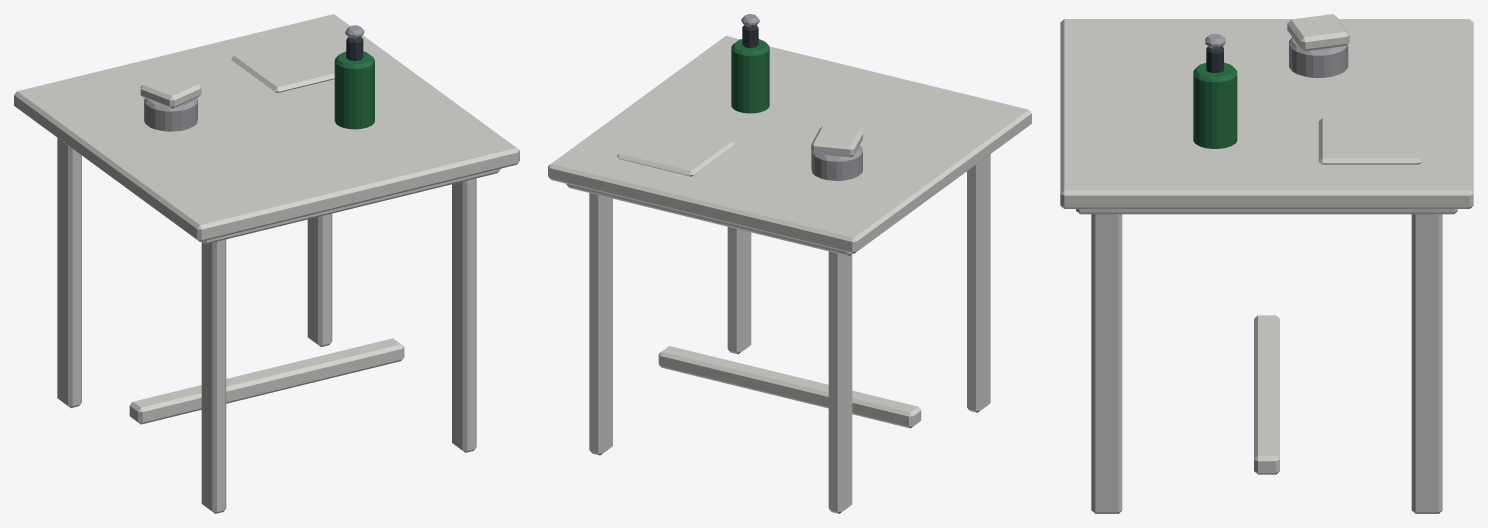
Rendered from PRP_Table_ML_v001.glb.
3 views of the same model, side by side, from view 1: azimuth 30°, elevation 25°; view 2: azimuth 150°, elevation 25°; view 3: azimuth 270°, elevation 25° (orthographic). The views are drawn at different scales.
Parts seen in each view (by area): view 1: PRP_Table_ML_v001; view 2: PRP_Table_ML_v001; view 3: PRP_Table_ML_v001.
Part boxes in pixels (x1,y1,x2,y2): PRP_Table_ML_v001: [14, 14, 519, 513]; PRP_Table_ML_v001: [548, 14, 1031, 513]; PRP_Table_ML_v001: [1060, 14, 1473, 513].
Size of the model in its own units: 0.8 by 0.945 by 0.8.
